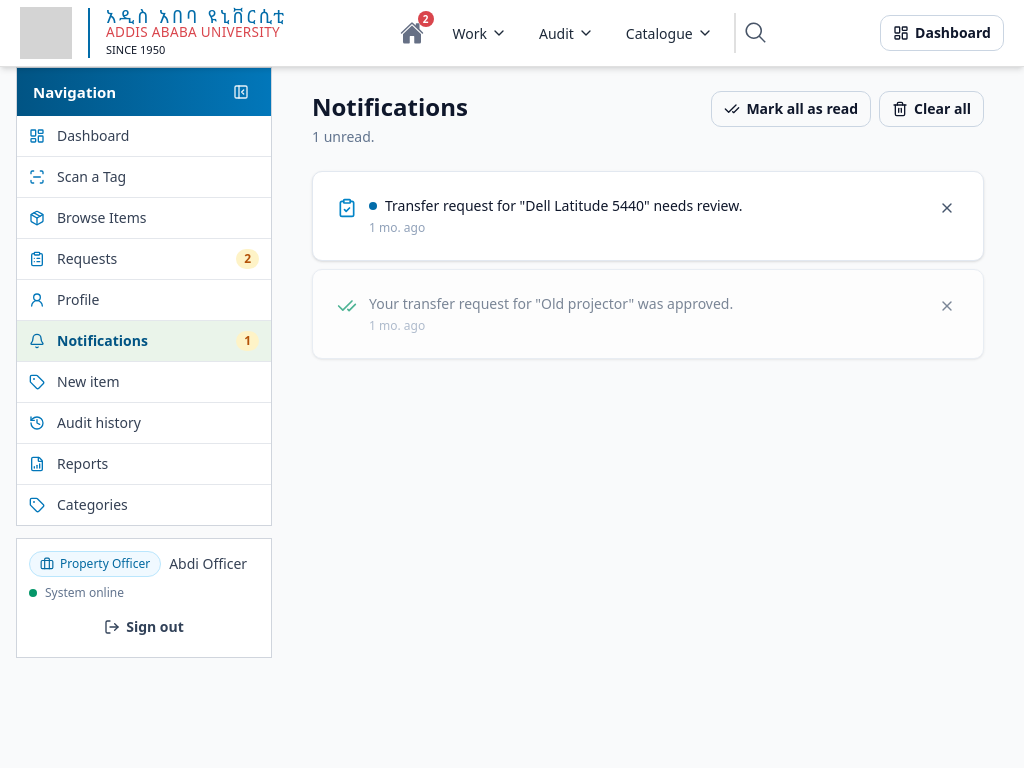
Scenario: /notifications — clear all › leaves the inbox alone when the confirmation is cancelled
Expected: the heading "Notifications" is shown, [312,91,468,123]
Expected: the text "Transfer request for \"Dell Latitude 5440\" needs review." is shown, [385,196,742,216]
What coordinates should you click on to do the following:
click the button "Clear all"
I would click on:
 (932, 109)
Its box is [879,91,984,127].
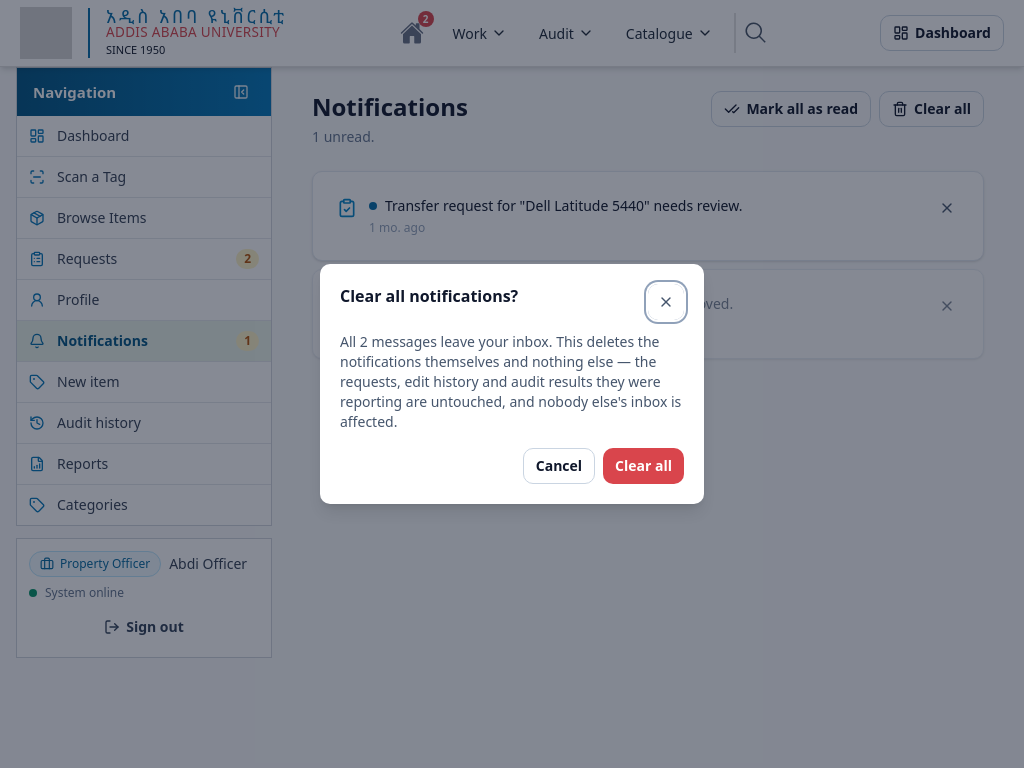
What coordinates should you click on to do the following:
click the button "Cancel"
I would click on:
 (559, 466)
Its box is [523,448,595,484].
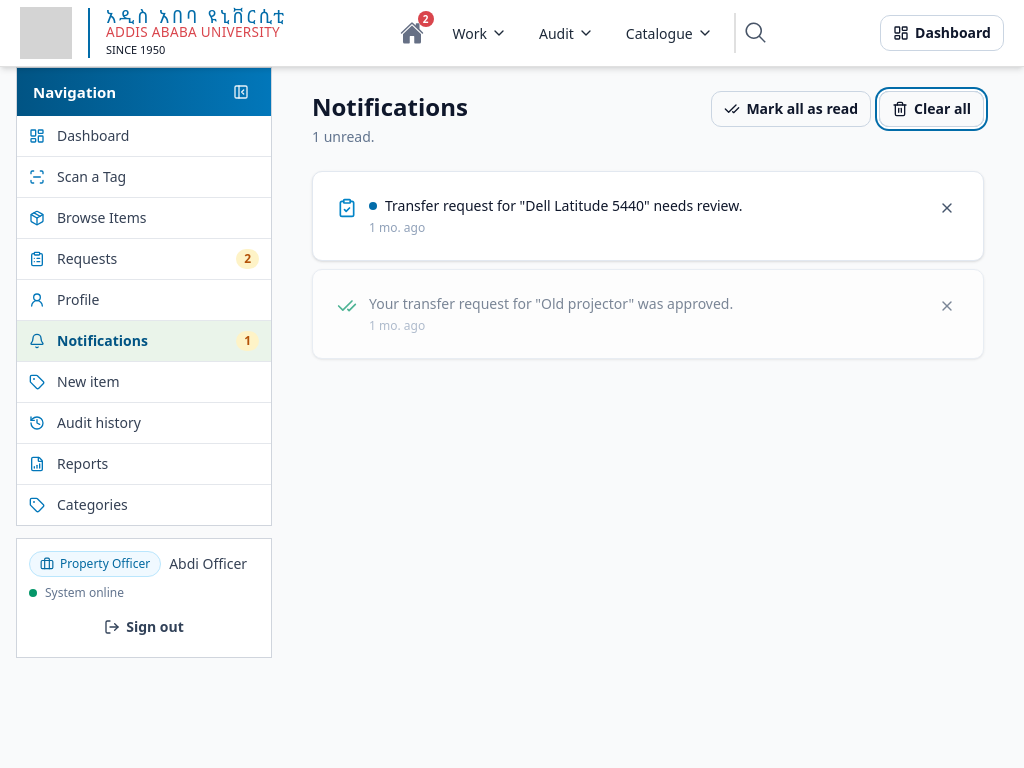
Expected: the text "Transfer request for \"Dell Latitude 5440\" needs review." is shown, [385,196,742,216]
Result: the heading "Clear all notifications" is gone
